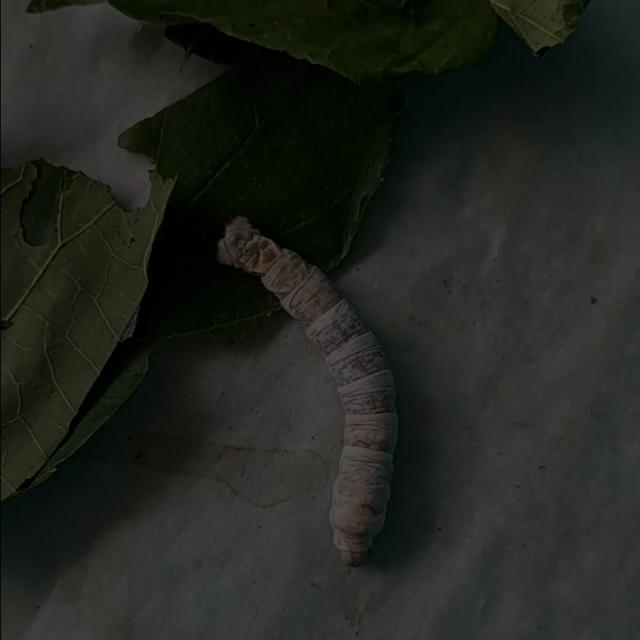Grasserie: (204, 206, 409, 581)
